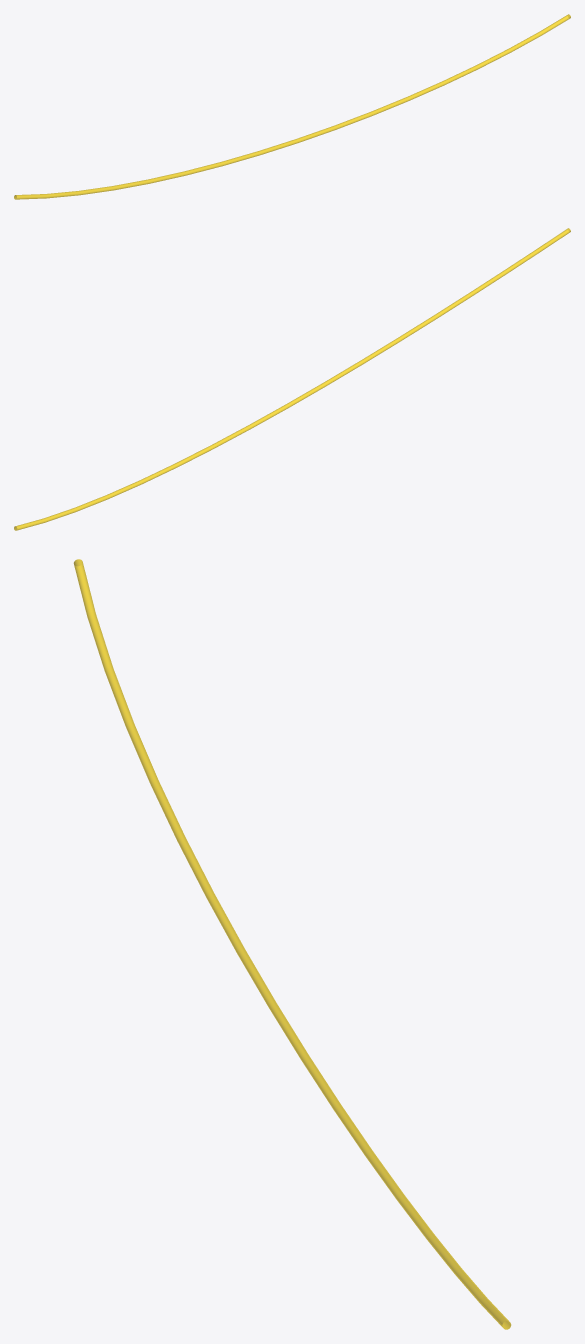
File: Event_75125125_track_61.fbx
3 views of the same model, one above another, from view 1: azimuth 30°, elevation 25°; view 2: azimuth 210°, elevation 25°; view 3: azimuth 270°, elevation 25° (orthographic). The views are drawn at different scales.
Parts seen in each view (by area): view 1: Model; view 2: Model; view 3: Model.
Part boxes in pixels (x1=…): Model: x1=14, y1=14, x2=570, y2=199; Model: x1=14, y1=228, x2=570, y2=530; Model: x1=73, y1=559, x2=511, y2=1329.
Bounding box in the file's own units: 6.64 × 0.7006 × 1.9.
